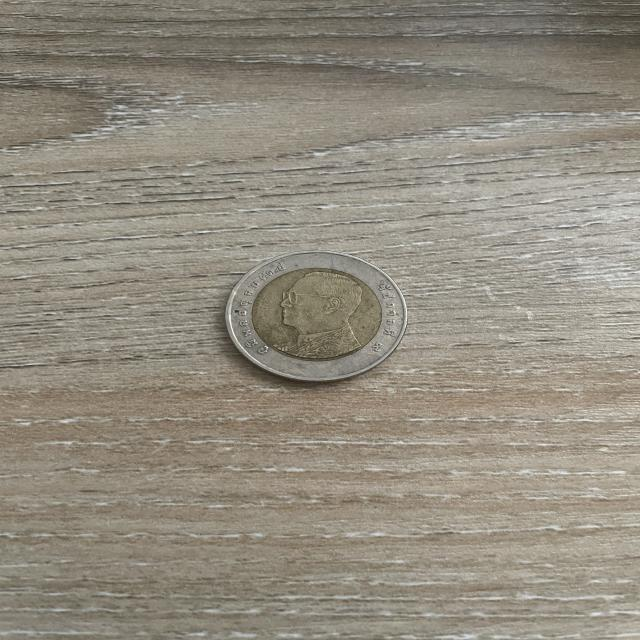10 Bath: (226, 246, 415, 390)
